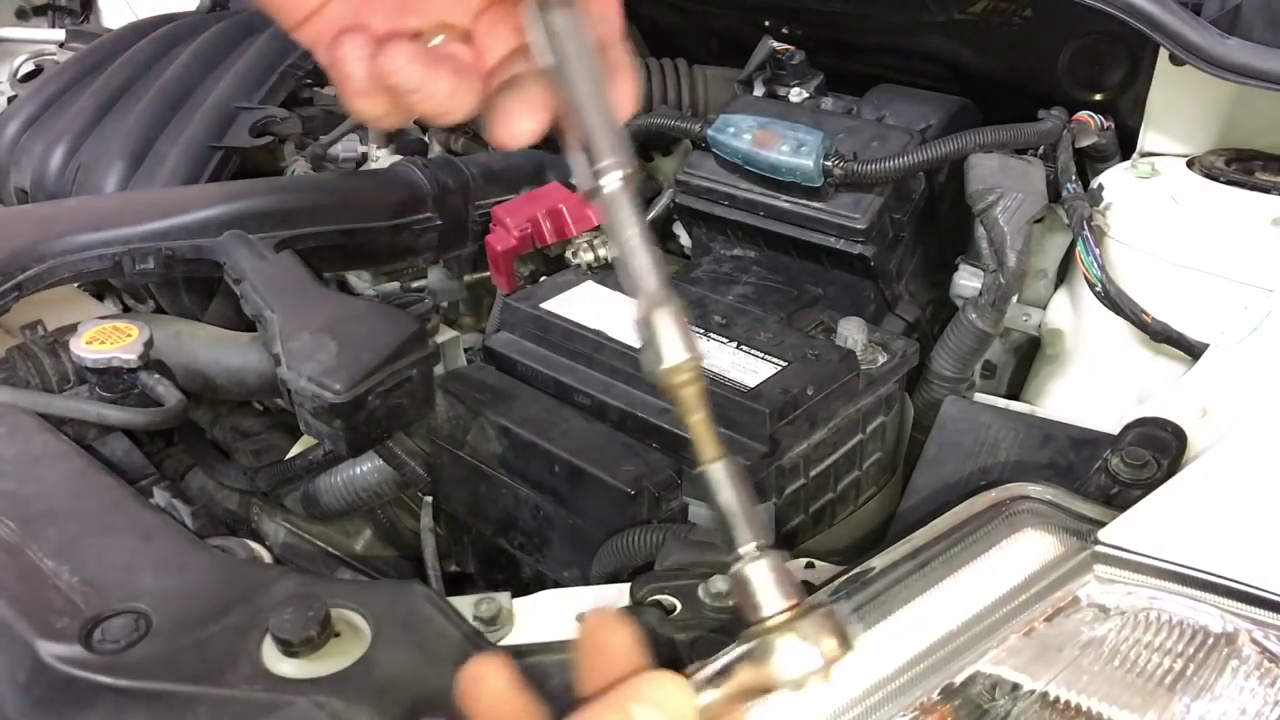battery: (491, 235, 896, 445)
neg_disconnected: (806, 300, 902, 375)
pos_touched: (393, 8, 665, 291)
